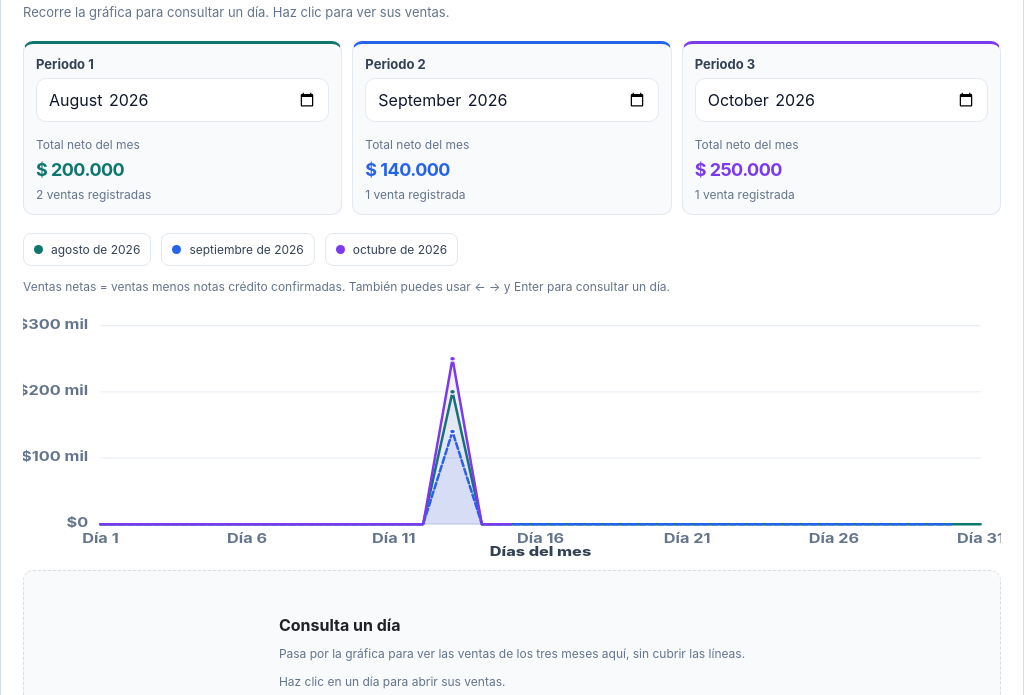
DailySalesPanel › pins a day to show invoices, customers and adjustments and keeps it after pointer leave
Click the picture named "Ventas diarias": point(512, 432) [23,308,1001,558]
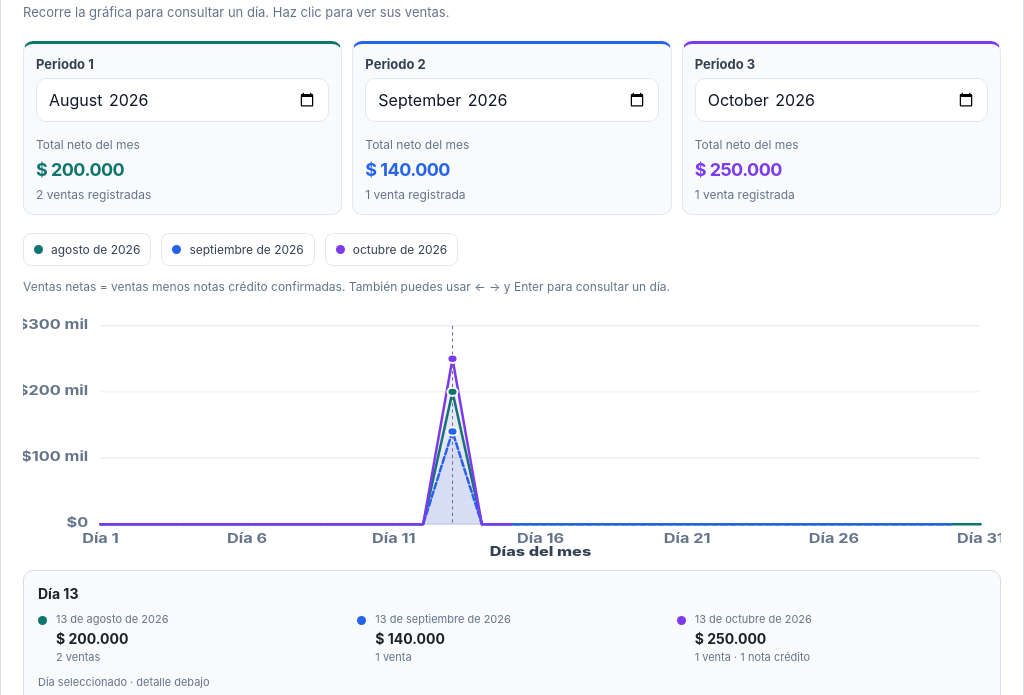
Move the pointer off the element named "Explorar ventas diarias", box [23,308,1001,558]
(page scrolled)
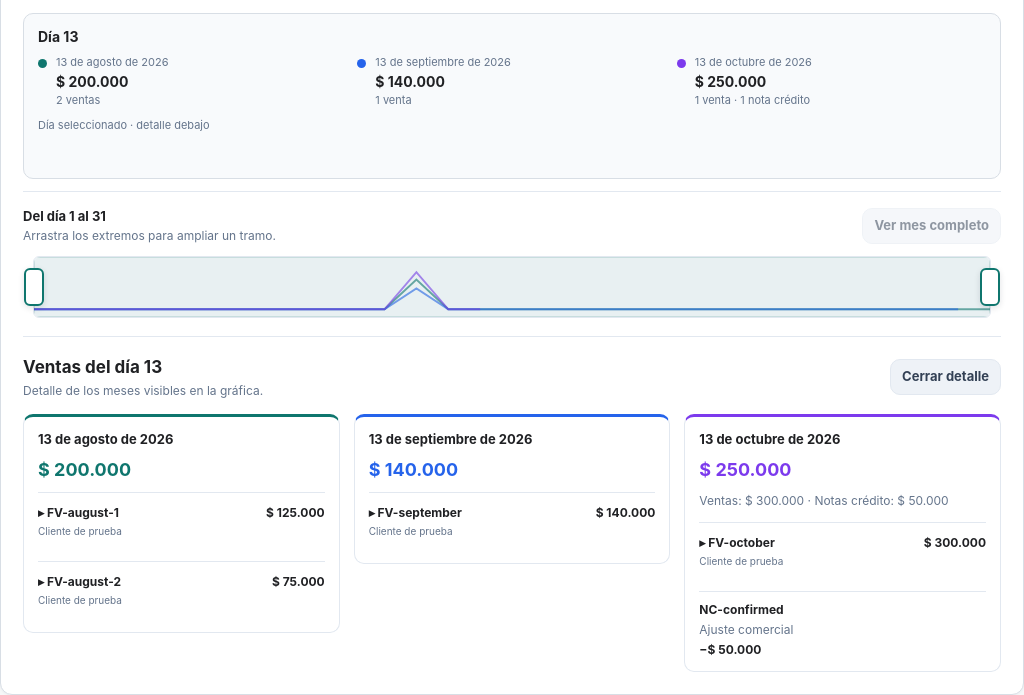
Now the tooltip is shown, box [23,12,1001,178]
Click the heading "FV-october Cliente de prueba $ 300.000": point(742, 542) [699,534,986,566]
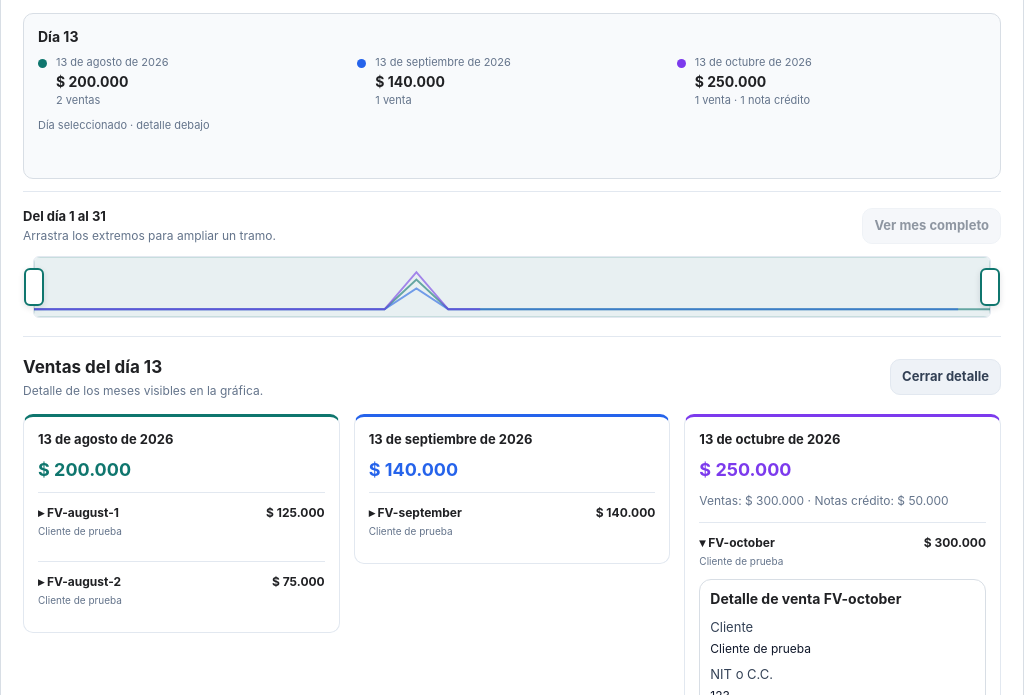
Click the button "Cerrar detalle": point(946, 377) [890,359,1001,395]
(page scrolled)
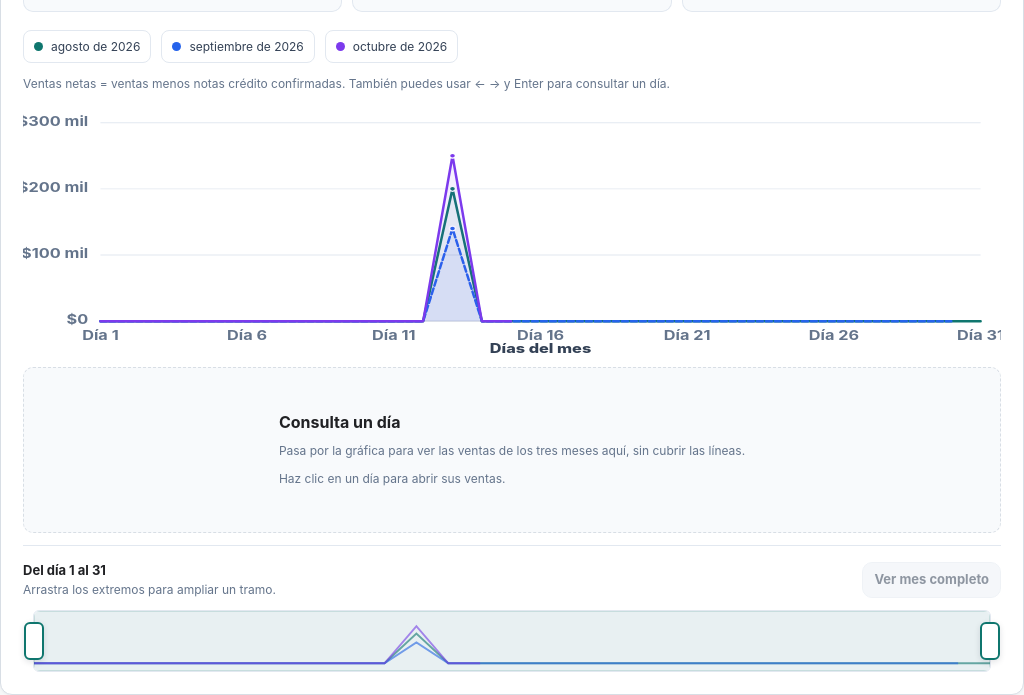
Now the heading "Ventas del día 13" is gone
